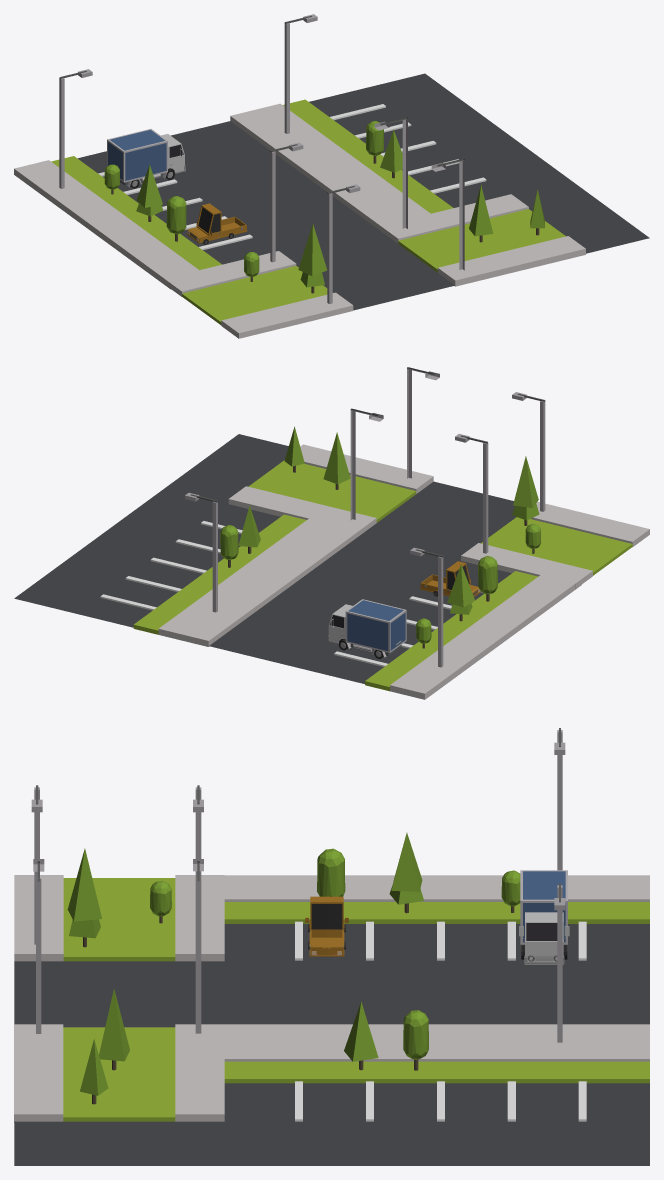
The model's file is parkinglot.glb.
The picture shows the model from 3 angles, top to bottom: view 1: azimuth 30°, elevation 25°; view 2: azimuth 150°, elevation 25°; view 3: azimuth 270°, elevation 25°; orthographic projection. The views are drawn at different scales.
Visible parts, largest first — view 1: Plane_Plane.008, Cube.905_Cube.3610, Cube.030_Cube.042, Cube.916_Cube.3629, CarColored.000_Cube.3470, Cube.024_Cube.041, Cone.005_Cone.031, Icosphere.164_Icosphere.194, Cone.003_Cone.029, Cube.003_Cube.010, Cube.801_Cube.3484, Cube.037_Cube.038 (+7 smaller); view 2: Plane_Plane.008, Cube.905_Cube.3610, Cube.030_Cube.042, Cube.916_Cube.3629, Cube.024_Cube.041, CarColored.000_Cube.3470, Cone.003_Cone.029, Cone.005_Cone.031, Icosphere.164_Icosphere.194, Cube.003_Cube.010, Cube.037_Cube.038, Cube.041_Cube.045 (+7 smaller); view 3: Plane_Plane.008, Cube.905_Cube.3610, Cube.030_Cube.042, Cube.916_Cube.3629, CarColored.000_Cube.3470, Cube.024_Cube.041, Cube.000_Cube.007, Cone.005_Cone.031, Cone.003_Cone.029, Icosphere.164_Icosphere.194, Icosphere.163_Icosphere.193, Cone.001_Cone.027 (+8 smaller).
Boxes of the visible parts, left/top/right/bottom form: Plane_Plane.008: left=77, top=73, right=649, bottom=310; Cube.905_Cube.3610: left=14, top=99, right=585, bottom=289; Cube.030_Cube.042: left=164, top=251, right=353, bottom=338; Cube.916_Cube.3629: left=107, top=129, right=185, bottom=188; CarColored.000_Cube.3470: left=187, top=203, right=247, bottom=244; Cube.024_Cube.041: left=330, top=104, right=486, bottom=193; Cone.005_Cone.031: left=298, top=223, right=327, bottom=276; Icosphere.164_Icosphere.194: left=166, top=196, right=186, bottom=234; Cone.003_Cone.029: left=469, top=184, right=493, bottom=236; Cube.003_Cube.010: left=59, top=78, right=64, bottom=188; Cube.801_Cube.3484: left=270, top=151, right=275, bottom=262; Cube.037_Cube.038: left=284, top=23, right=289, bottom=133; Plane_Plane.008: left=14, top=434, right=516, bottom=683; Cube.905_Cube.3610: left=133, top=444, right=581, bottom=699; Cube.030_Cube.042: left=461, top=501, right=649, bottom=588; Cube.916_Cube.3629: left=327, top=599, right=406, bottom=658; Cube.024_Cube.041: left=100, top=521, right=242, bottom=610; CarColored.000_Cube.3470: left=420, top=561, right=480, bottom=596; Cone.003_Cone.029: left=323, top=432, right=350, bottom=484; Cone.005_Cone.031: left=513, top=456, right=538, bottom=507; Icosphere.164_Icosphere.194: left=478, top=556, right=497, bottom=594; Cube.003_Cube.010: left=438, top=556, right=443, bottom=667; Cube.037_Cube.038: left=212, top=501, right=217, bottom=612; Cube.041_Cube.045: left=540, top=401, right=545, bottom=511; Plane_Plane.008: left=14, top=924, right=649, bottom=1165; Cube.905_Cube.3610: left=14, top=875, right=649, bottom=1122; Cube.030_Cube.042: left=14, top=875, right=224, bottom=961; Cube.916_Cube.3629: left=519, top=870, right=569, bottom=964; CarColored.000_Cube.3470: left=305, top=896, right=348, bottom=956; Cube.024_Cube.041: left=295, top=1081, right=586, bottom=1121; Cube.000_Cube.007: left=295, top=921, right=586, bottom=960; Cone.005_Cone.031: left=67, top=848, right=101, bottom=921; Cone.003_Cone.029: left=99, top=989, right=129, bottom=1061; Icosphere.164_Icosphere.194: left=317, top=848, right=345, bottom=896; Icosphere.163_Icosphere.193: left=403, top=1010, right=428, bottom=1059; Cone.001_Cone.027: left=344, top=1001, right=378, bottom=1061.
Size of the model in its own units: 4.1 by 1.12 by 3.89.
